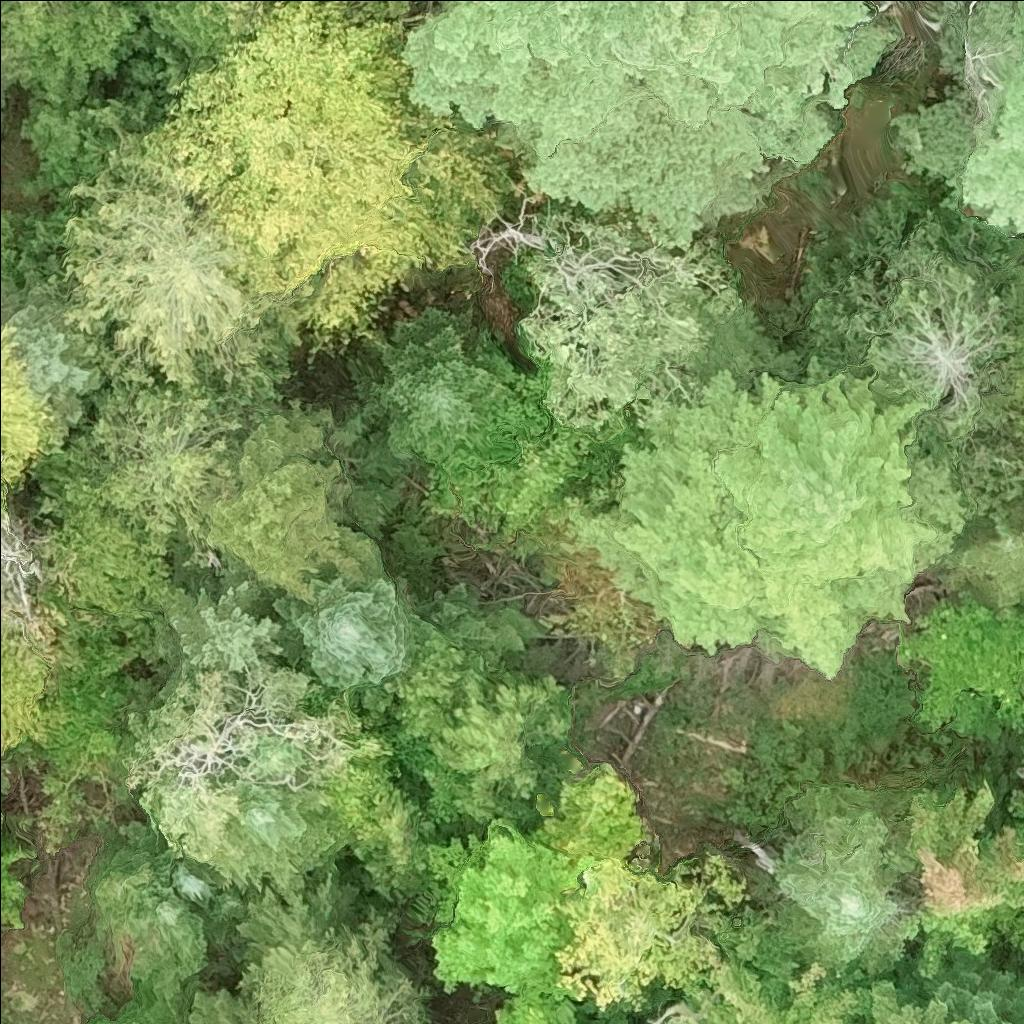crown: (142, 0, 518, 354), (554, 360, 962, 673), (404, 0, 899, 249), (59, 140, 280, 390), (429, 770, 645, 1011), (859, 223, 1023, 445), (426, 363, 630, 540), (556, 855, 746, 1012), (41, 437, 171, 632), (92, 386, 237, 553), (682, 912, 896, 1023), (898, 781, 1023, 971), (776, 807, 910, 972), (428, 673, 577, 820), (522, 524, 664, 671), (244, 917, 425, 1023), (895, 603, 1023, 729), (388, 309, 498, 454), (276, 578, 413, 692), (388, 619, 509, 738), (968, 0, 1023, 233), (159, 583, 284, 678), (0, 0, 136, 82), (226, 788, 330, 887), (9, 308, 101, 412), (357, 785, 437, 898), (0, 333, 58, 487), (881, 974, 1023, 1023), (0, 630, 51, 755), (968, 531, 1023, 615), (0, 817, 32, 922), (196, 0, 284, 36), (488, 992, 574, 1023), (169, 863, 220, 915), (188, 993, 274, 1023), (391, 0, 412, 16), (0, 483, 8, 508), (1016, 330, 1023, 354), (90, 1021, 113, 1023)
